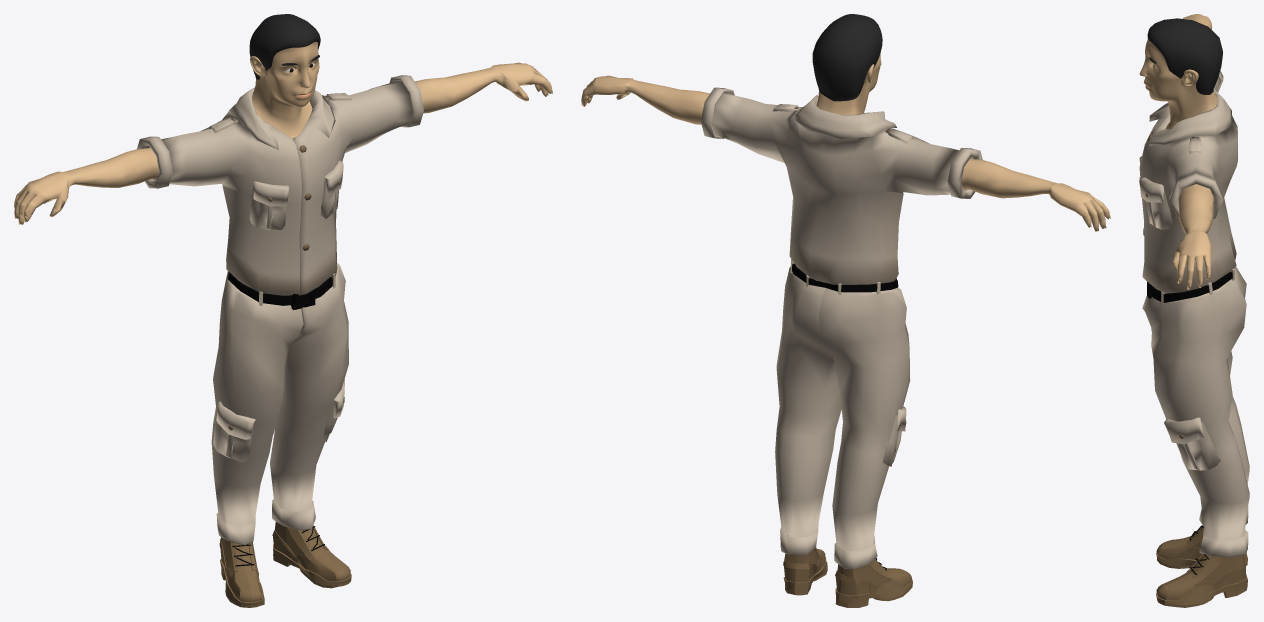
File: Jayadi .fbx
The picture shows the model from 3 angles, left to right: view 1: azimuth 30°, elevation 25°; view 2: azimuth 150°, elevation 25°; view 3: azimuth 270°, elevation 25°; orthographic projection. The views are drawn at different scales.
Visible parts, largest first — view 1: Uniform, Pants, Arms, Head, Boots, Uniform.003, Uniform.004, Belt; view 2: Pants, Uniform, Arms, Head, Boots, Belt; view 3: Pants, Uniform, Head, Boots, Arms, Uniform.004, Uniform.003, Belt, Uniform.008.
Part boxes in pixels (box(x1,y1,x2,y2)): Uniform: box(137, 75, 423, 295); Pants: box(211, 263, 348, 545); Arms: box(14, 62, 552, 224); Head: box(249, 14, 320, 138); Boots: box(219, 521, 351, 607); Uniform.003: box(249, 160, 343, 229); Uniform.004: box(213, 378, 344, 462); Belt: box(227, 267, 337, 306); Pants: box(775, 267, 910, 569); Uniform: box(700, 87, 982, 284); Arms: box(581, 75, 1110, 231); Head: box(812, 14, 882, 115); Boots: box(783, 535, 912, 607); Belt: box(790, 259, 898, 294); Pants: box(1142, 267, 1249, 557); Uniform: box(1139, 71, 1237, 293); Head: box(1139, 18, 1222, 129); Boots: box(1156, 525, 1247, 607); Arms: box(1173, 14, 1213, 289); Uniform.004: box(1164, 417, 1220, 470); Uniform.003: box(1139, 156, 1173, 229); Belt: box(1151, 269, 1234, 305); Uniform.008: box(1189, 136, 1201, 153).
Size of the model in its own units: 322 by 332 by 59.3.
